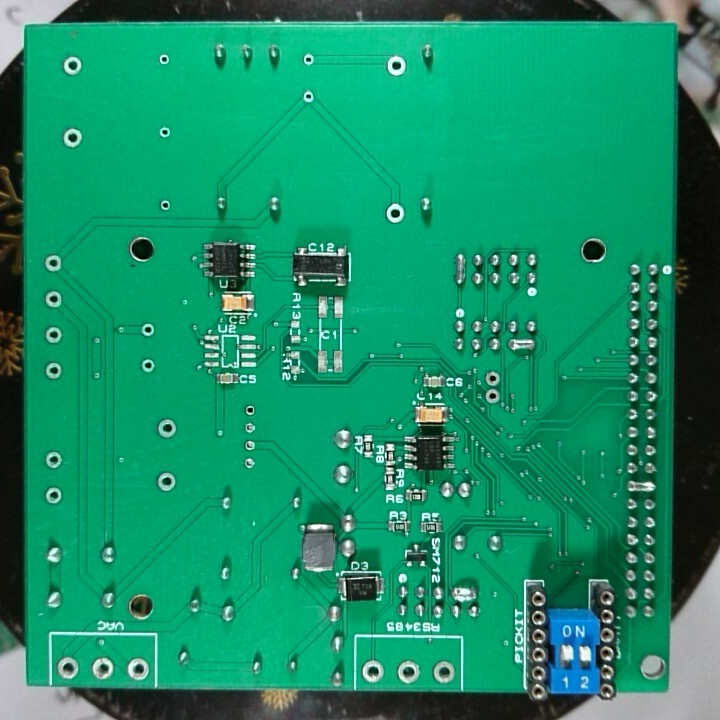F: (396, 660, 424, 688), (359, 658, 386, 686), (88, 654, 114, 682), (125, 657, 151, 685), (55, 654, 81, 680), (431, 658, 455, 686), (60, 54, 84, 80), (61, 126, 85, 151), (154, 470, 179, 494), (42, 483, 65, 509), (385, 53, 408, 78), (155, 416, 178, 440), (42, 448, 65, 471), (43, 360, 63, 384), (43, 253, 64, 275), (43, 324, 64, 346), (384, 200, 404, 223), (44, 290, 64, 311), (482, 387, 502, 407), (139, 320, 158, 339), (483, 369, 502, 388), (242, 436, 260, 455), (139, 357, 157, 375), (300, 89, 317, 106), (242, 455, 259, 472), (301, 52, 317, 70), (156, 123, 171, 142), (242, 403, 259, 419), (159, 197, 174, 214), (158, 51, 172, 69), (242, 420, 258, 435)
P: (449, 583, 480, 603), (625, 478, 658, 496), (505, 336, 537, 354), (454, 251, 468, 287)
